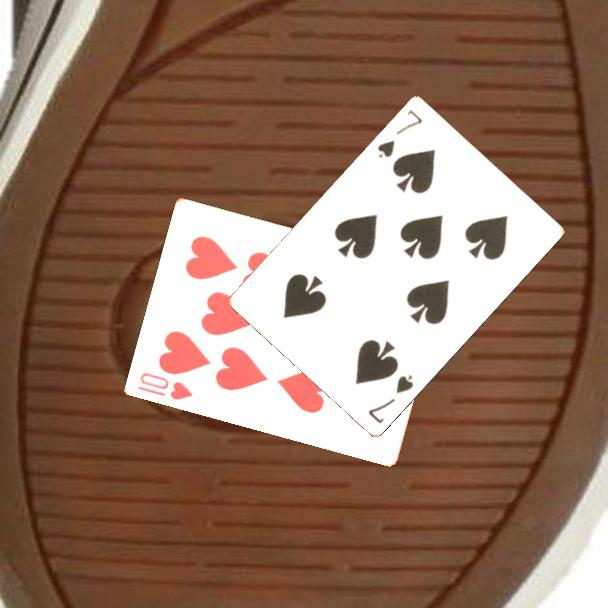h10: (134, 369, 196, 403)
s07: (374, 106, 426, 161), (365, 370, 416, 426)
